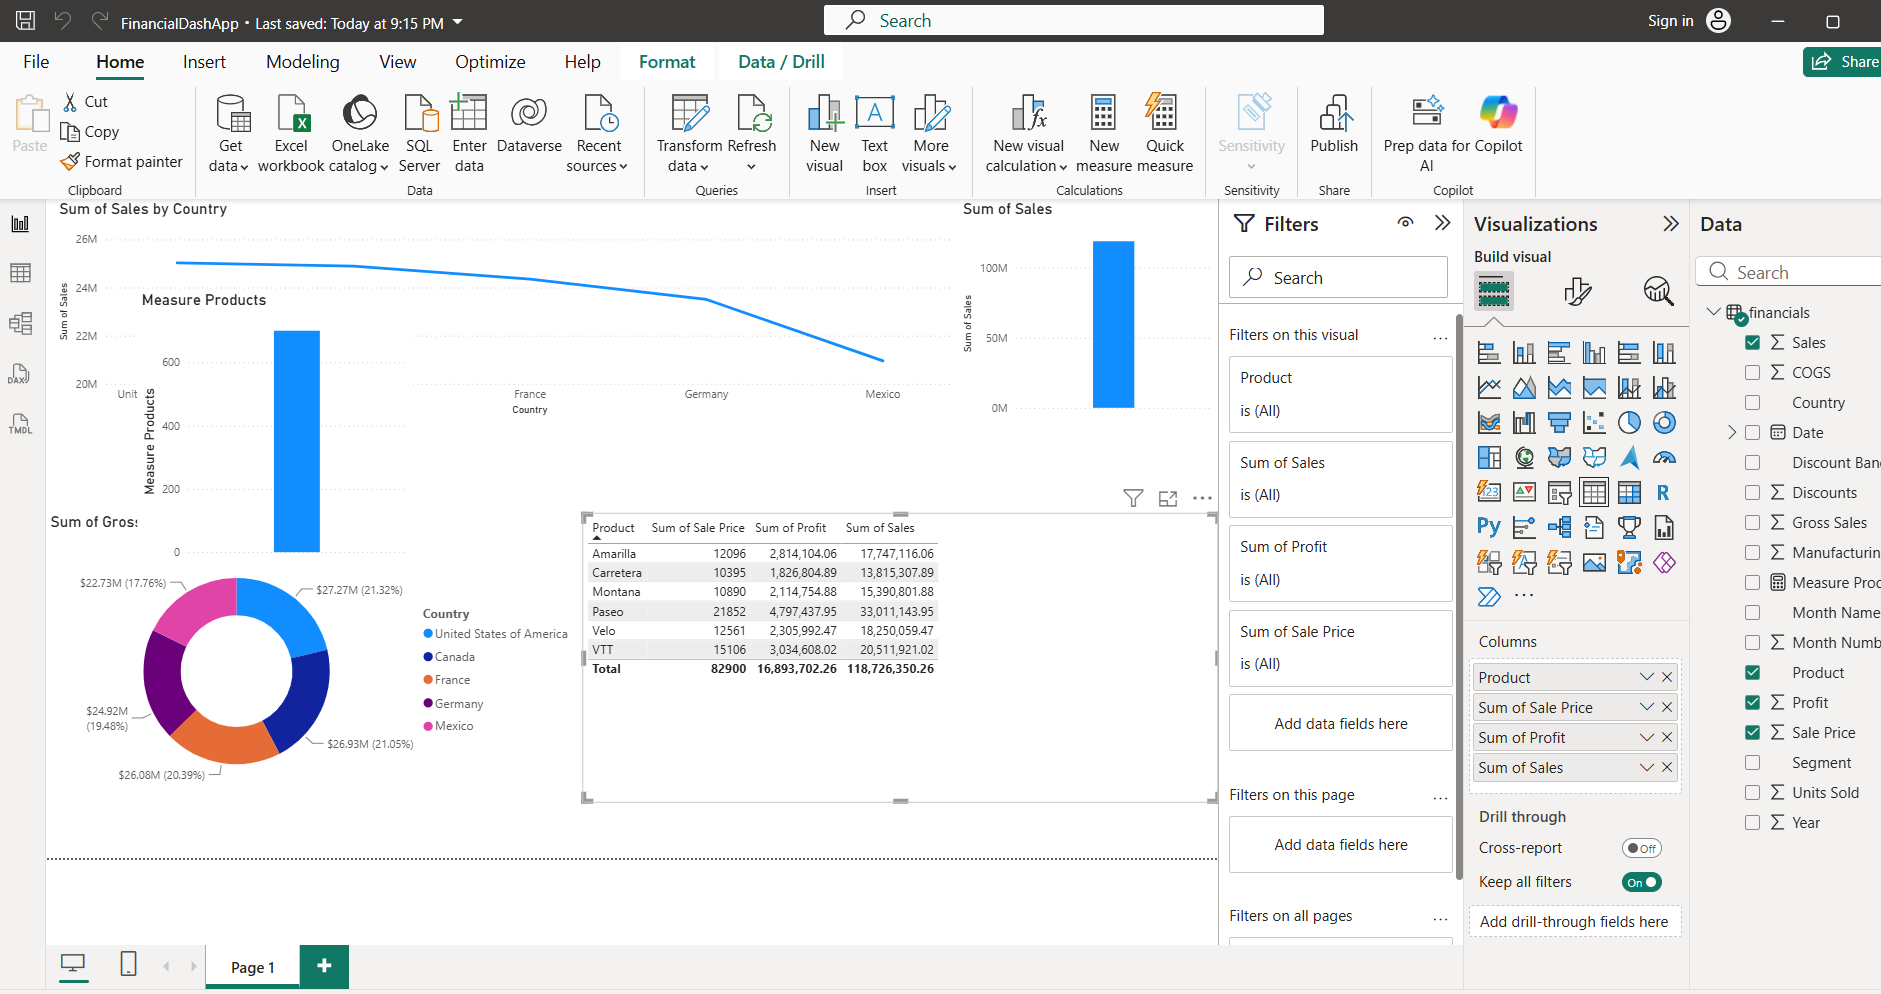

The dashboard page shown, as its layout file describes it:
{"tool":"powerbi","page":{"name":"Page 1","canvas":[1280,720],"ordinal":0},"visuals":[{"type":"lineChart","fields":{"Y":["Sum(financials. Sales)"],"Category":["financials.Country"]},"box":[9.6,0,986.6,241.5],"z":0},{"type":"donutChart","fields":{"Y":["Sum(financials.Gross Sales)"],"Category":["financials.Country"]},"box":[0,343.1,584.6,315.6],"z":1000},{"type":"tableEx","fields":{"Values":["financials.Product","Sum(financials.Sale Price)","Sum(financials.Profit)","Sum(financials. Sales)"]},"box":[585,343,695,316],"z":2000},{"type":"clusteredColumnChart","fields":{"Y":["Sum(financials. Sales)"]},"box":[996.4,0,283,242],"z":3000},{"type":"clusteredColumnChart","fields":{"Y":["financials.Measure Products"]},"box":[100,100,300,300],"z":4000}]}

Visuals, with their boxes on the page's 1280x720 design canvas (x1, y1, x2, y2). These are canvas units, not pixel positions in the 1881x994 screenshot, which may show the page scaled, cropped or inside an application window:
lineChart - Sum(financials. Sales) x financials.Country: (left=10, top=0, right=996, bottom=242)
donutChart - Sum(financials.Gross Sales) x financials.Country: (left=0, top=343, right=585, bottom=659)
tableEx - financials.Product x Sum(financials.Sale Price): (left=585, top=343, right=1280, bottom=659)
clusteredColumnChart - Sum(financials. Sales): (left=996, top=0, right=1279, bottom=242)
clusteredColumnChart - financials.Measure Products: (left=100, top=100, right=400, bottom=400)
